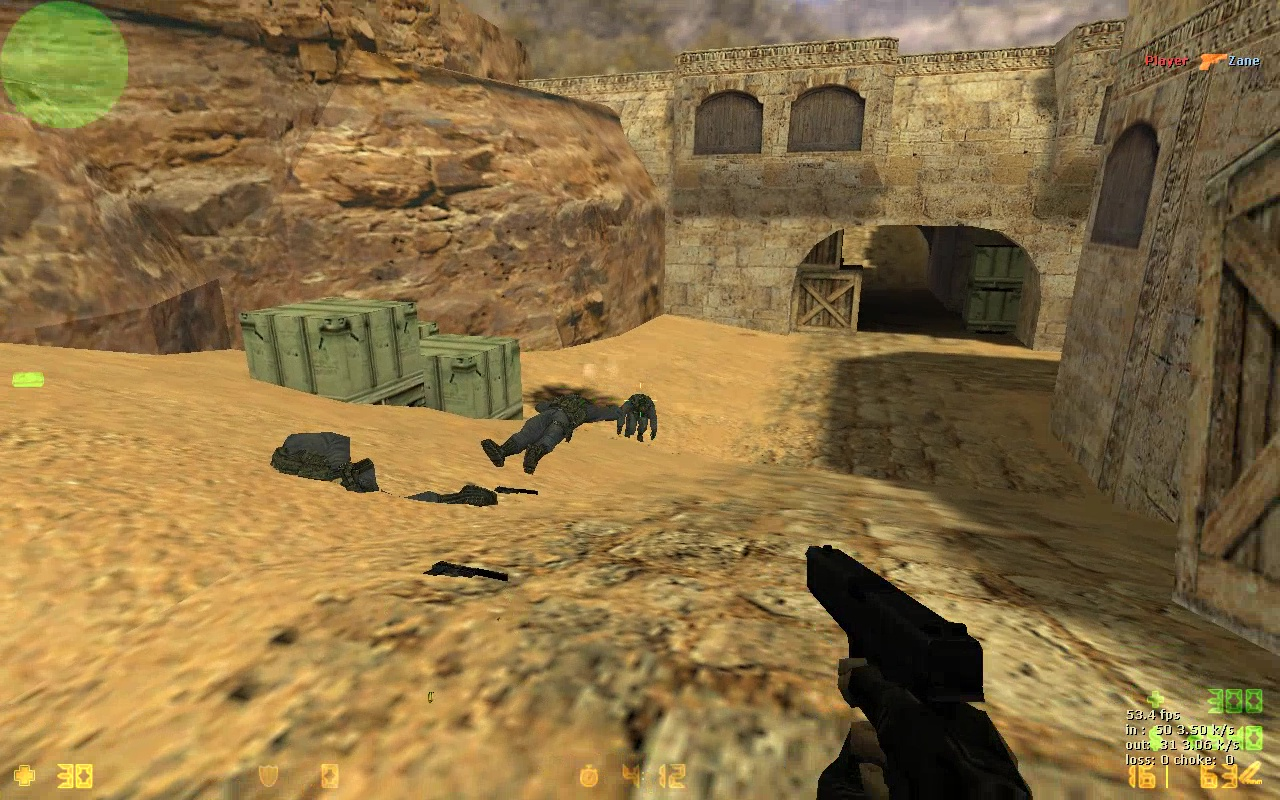ct: (615, 393, 661, 449)
dead: (481, 393, 619, 472)
